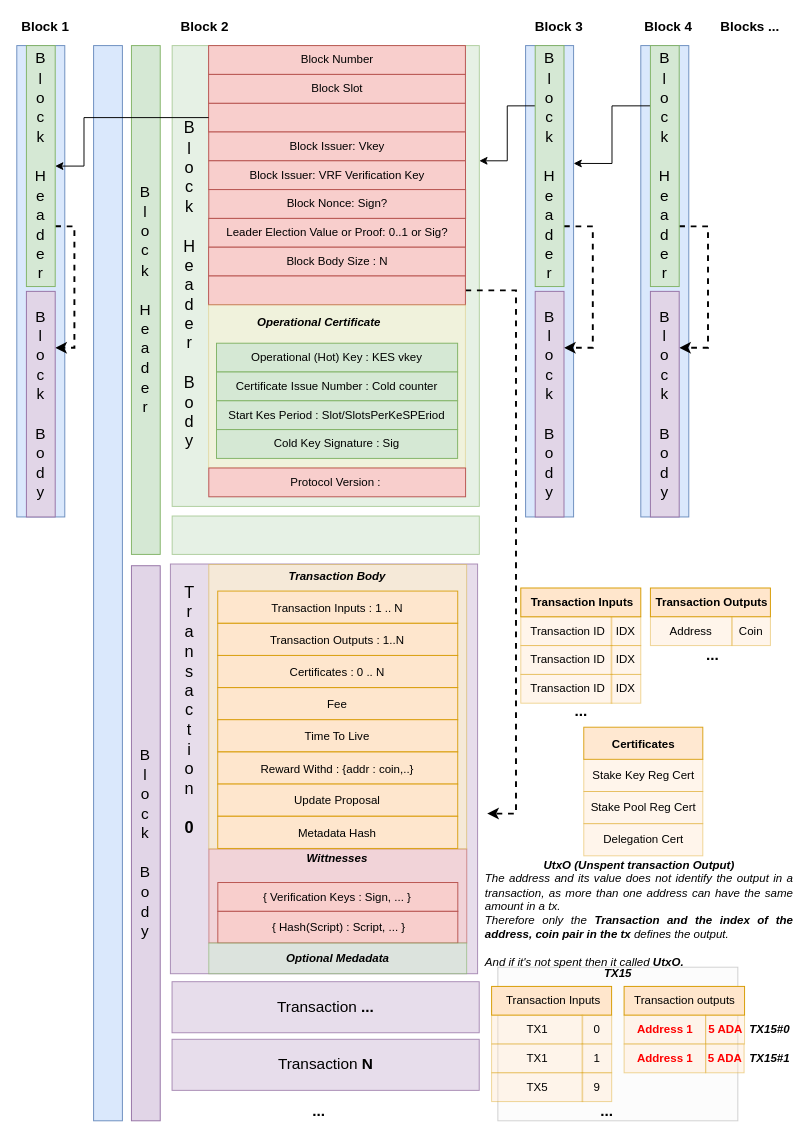
Image size: 812x1138. Some labels were removed from this diagram. Here are the shapes that lost their labels. From the top down, the box of each, then its label:
(208, 102, 465, 132): Previous Block Header: Hash SHA256
(208, 275, 465, 305): Block Body Hash : SHA256?
(171, 515, 479, 554): Signature
(93, 45, 122, 1121): S h e l l e y B l o c k
